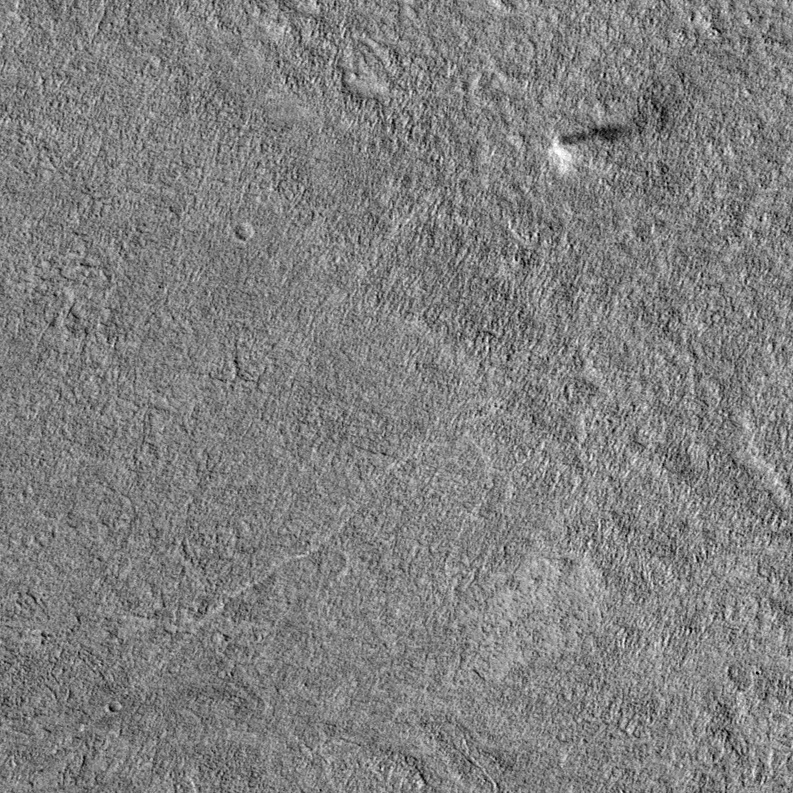dust_devil: (548, 122, 632, 172)
